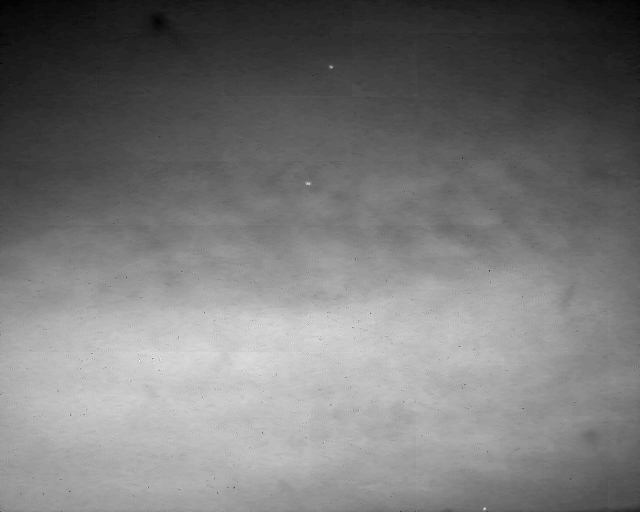Target: (305, 181, 313, 187), (329, 66, 336, 70), (483, 508, 488, 512)
